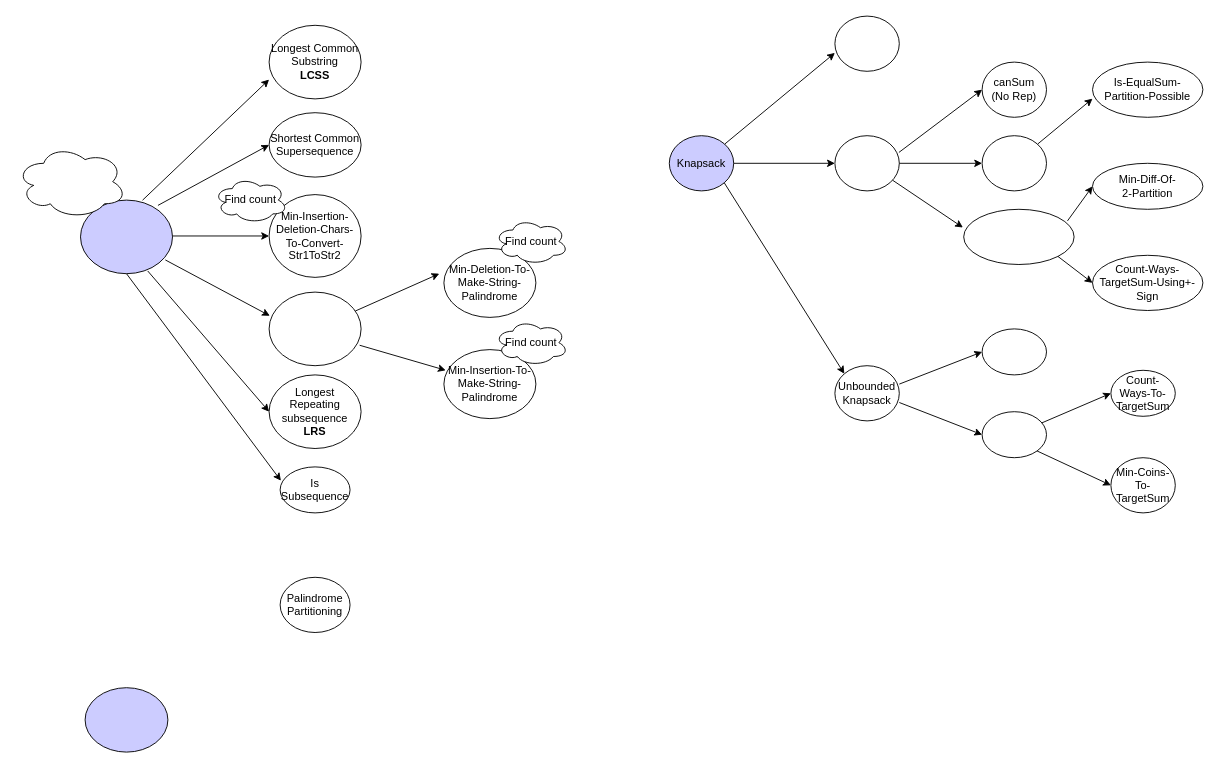
This 1219x768 diagram has some shape labels left out. The shapes that lost their labels are listed below. From the top down, each one's centre as x and y in pixels, then its label:
point 866,43: Fractional Knapsack (Greedy)
point 70,181: Print LCS/ Find Max Length
point 866,163: 01 Knapsack
point 1013,163: countSum (No Rep)
point 126,236: Longest Common Subsequence LCS
point 1018,236: Count-Ways-2-Partition-Diff-Equal-To-Given-Diff
point 314,328: Longest palindrome subsequence LPS
point 1013,351: Rod Cutting
point 1013,434: Coin-Change
point 126,719: Matrix chain multiplication MCM
